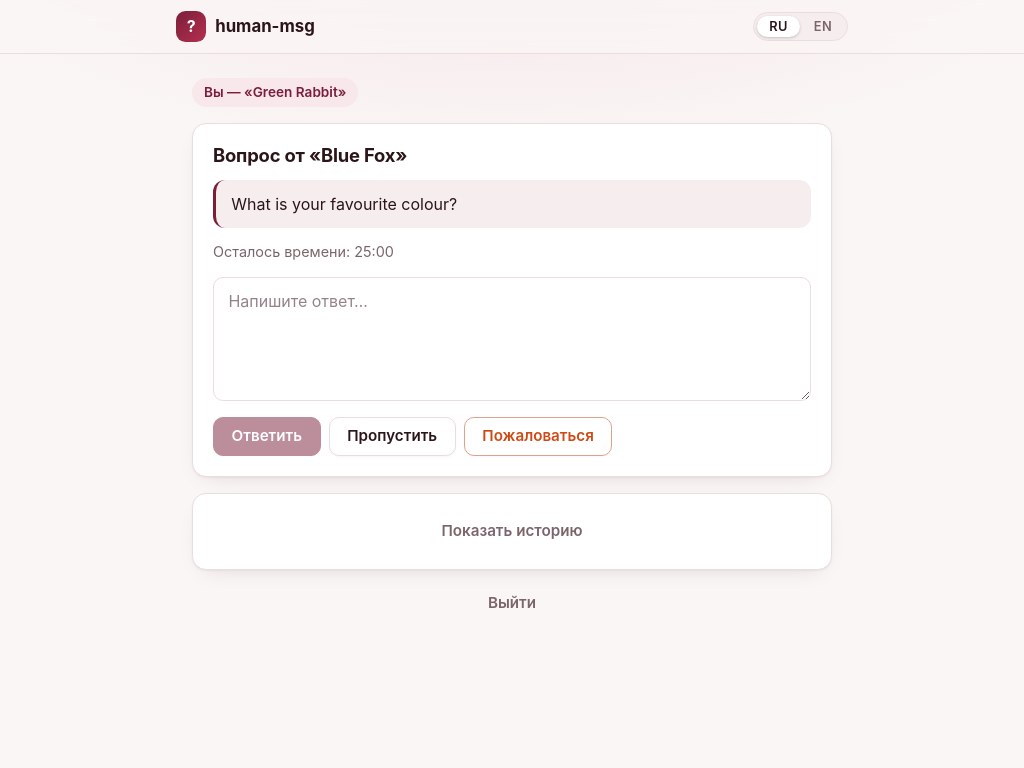
Test: the card of an incoming question › sends the answer and goes back to the question form
In the text box labelled "Напишите ответ…": x=512, y=339 [213,277,811,401], type "Green"
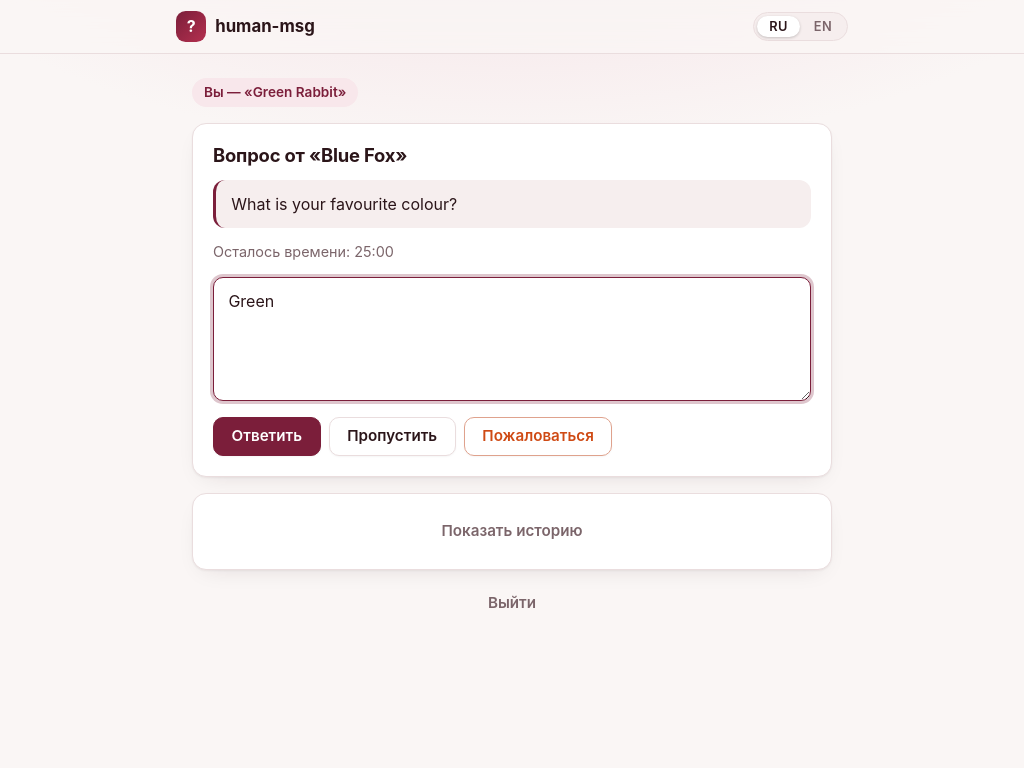
Click the button "Ответить": x=267, y=436 [213,417,321,456]
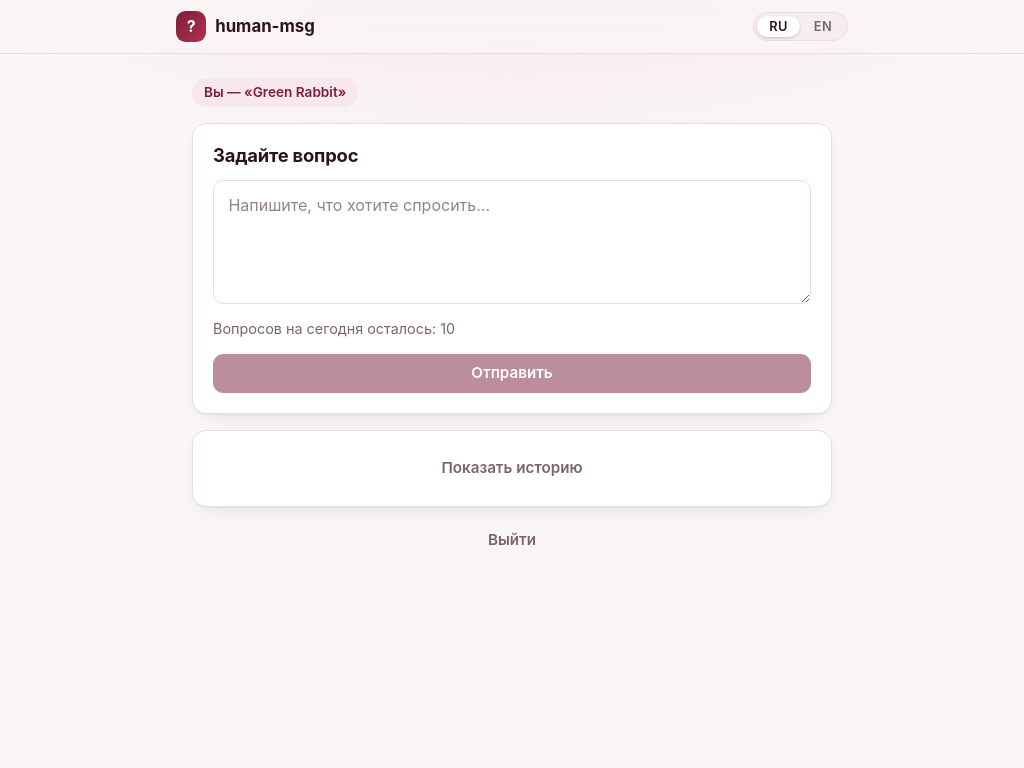
Expected: the text box named "Задайте вопрос" is shown, [213,180,811,304]
